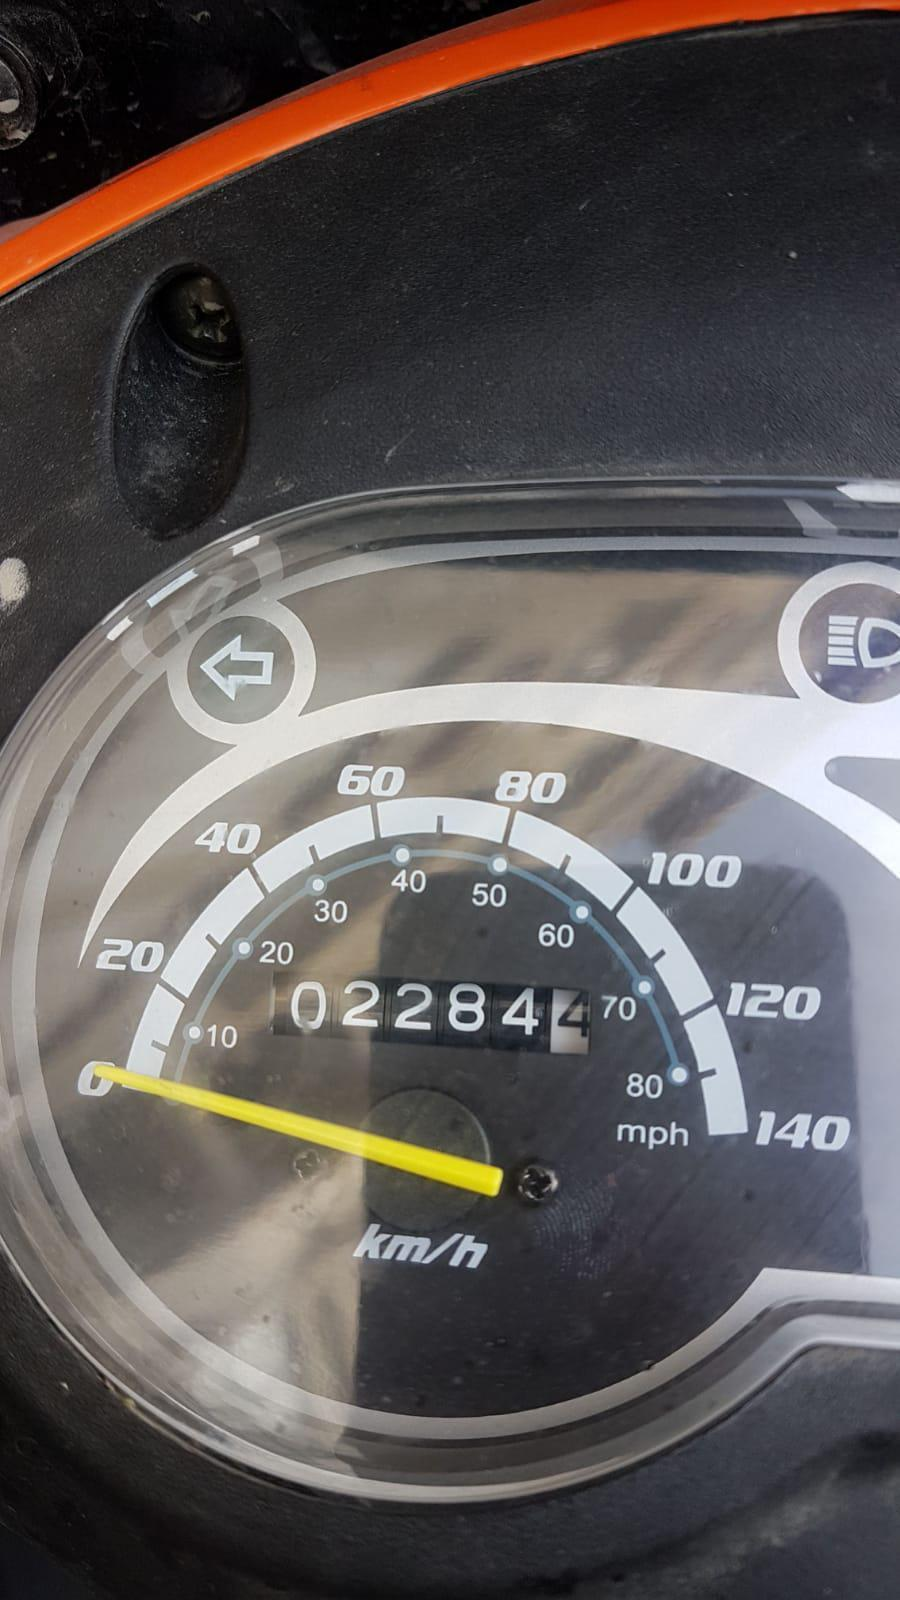0: (289, 974, 327, 1034)
2: (395, 978, 435, 1035), (340, 979, 380, 1032)
4: (498, 981, 544, 1038), (555, 986, 593, 1041)
8: (443, 978, 488, 1037)
odometer: (275, 968, 604, 1065)
